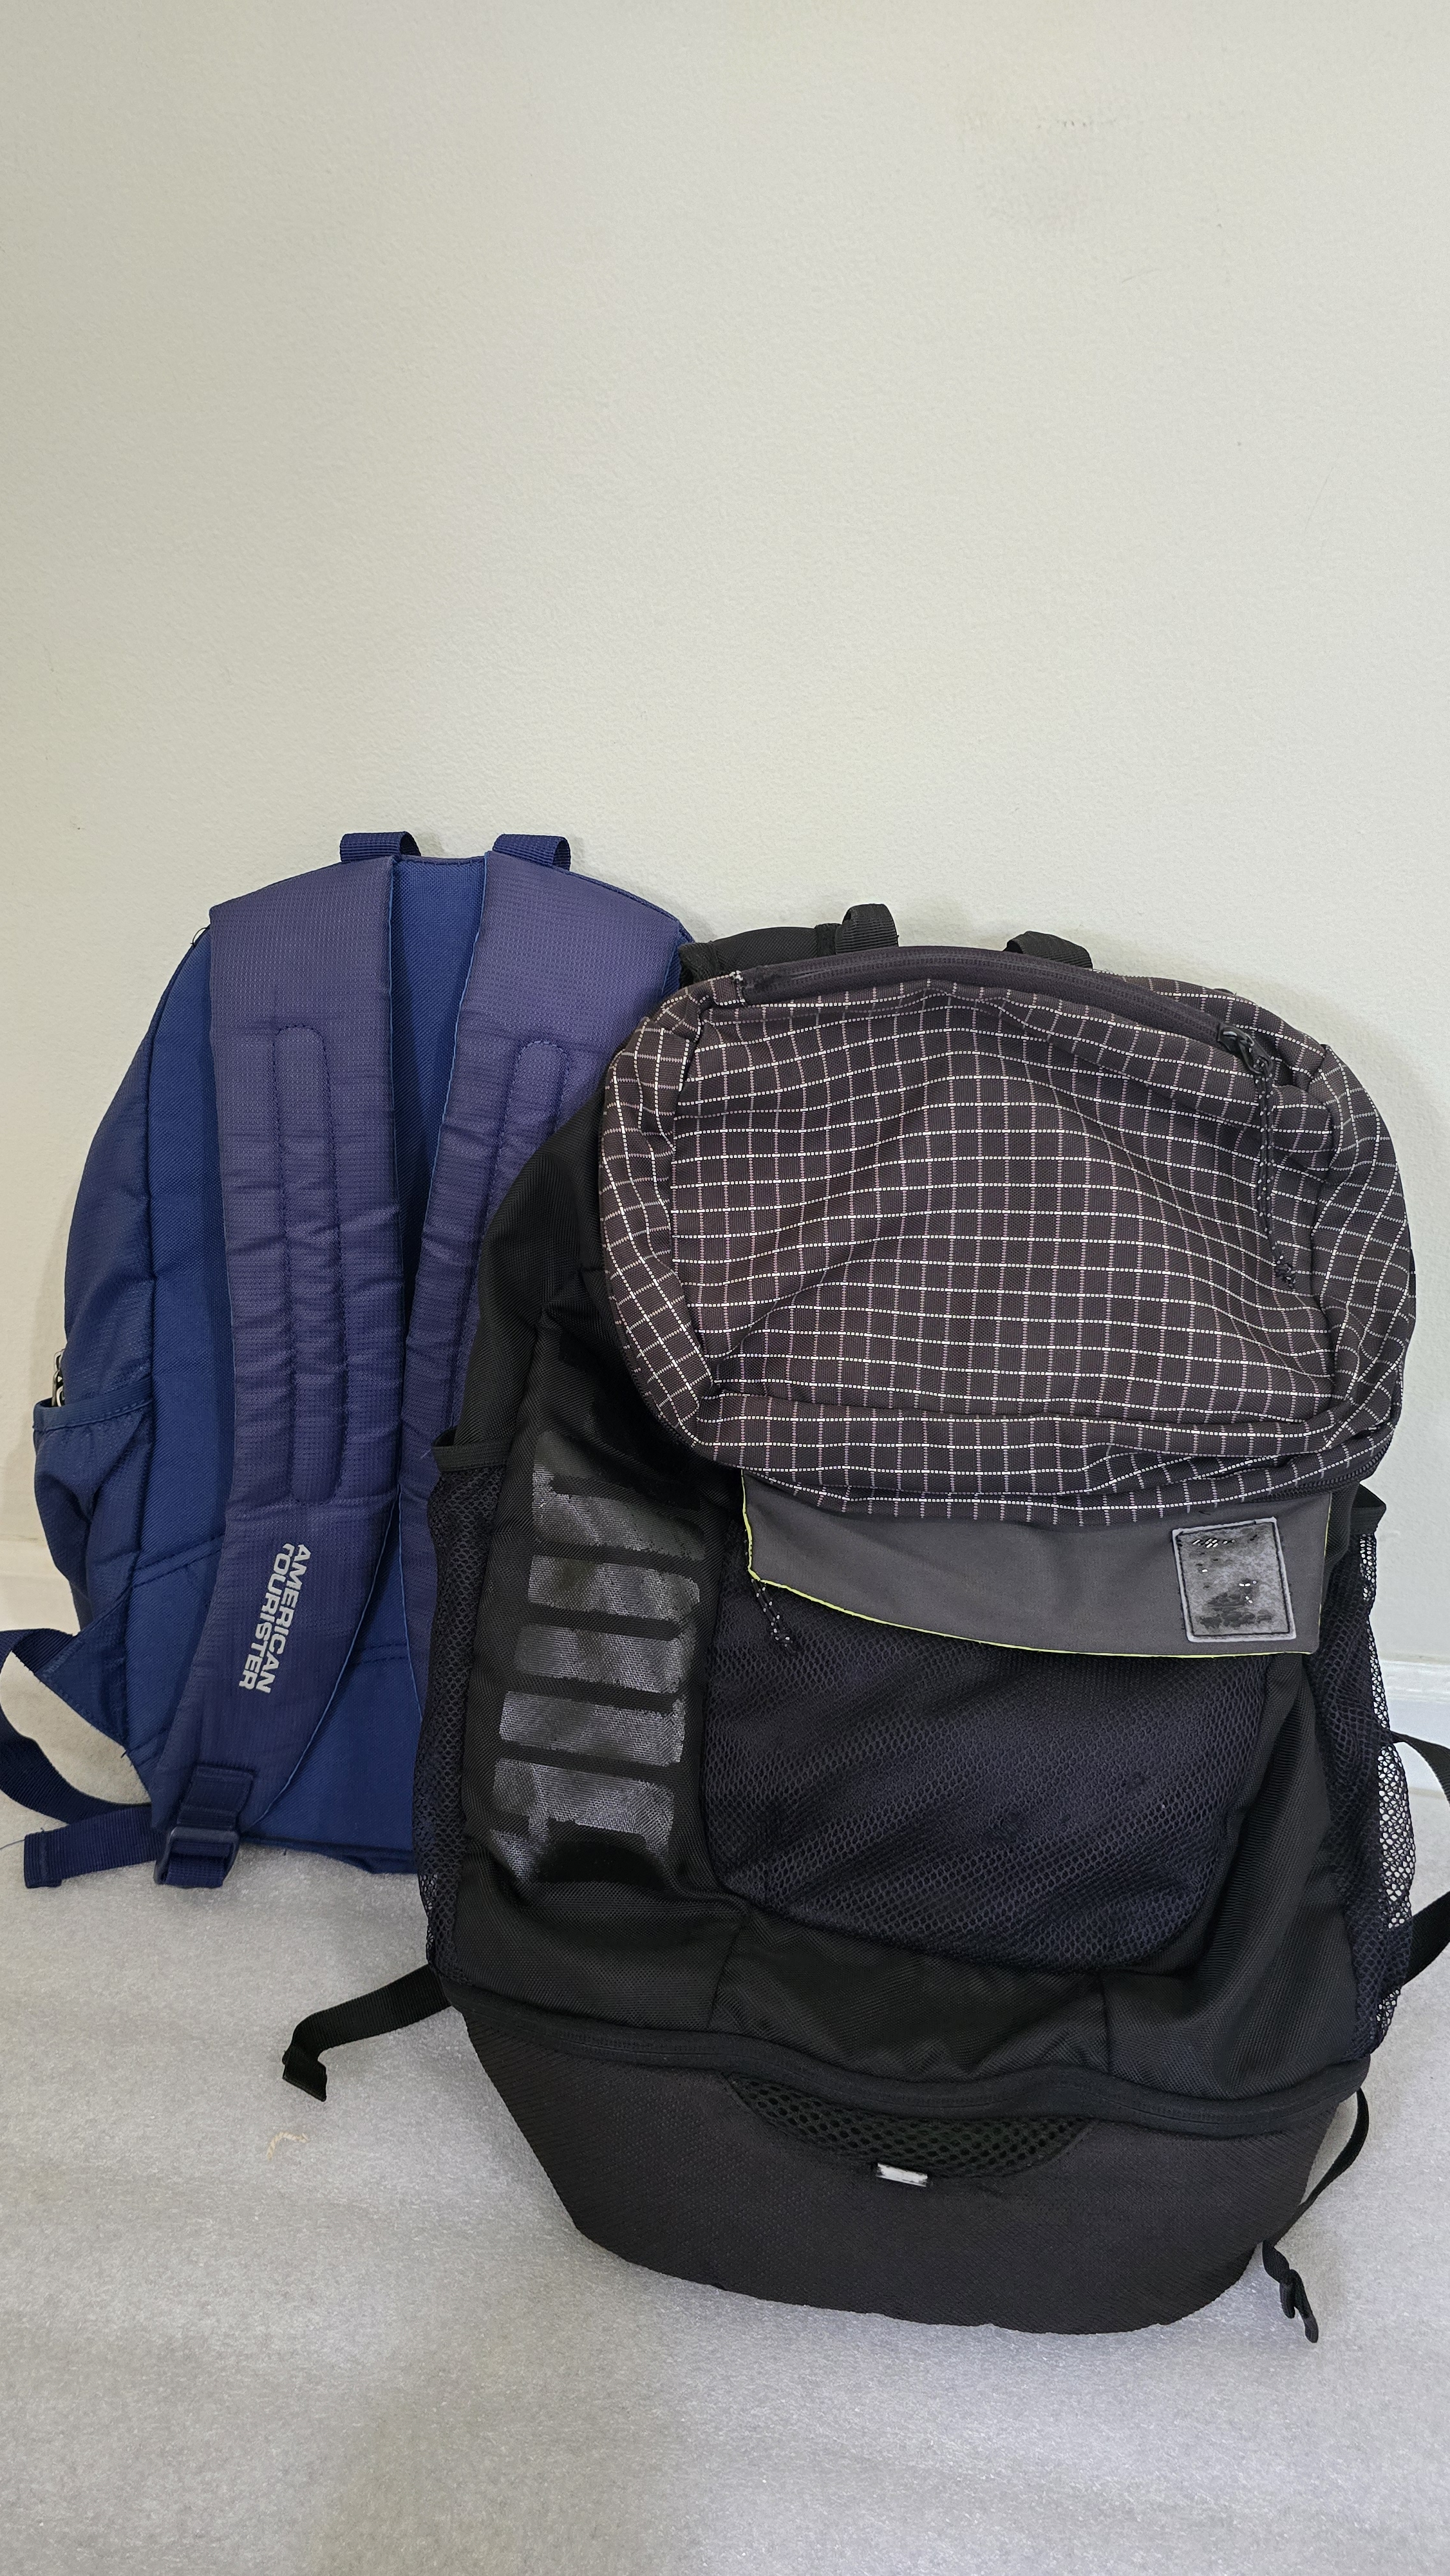bag: (493, 875, 1431, 2353), (88, 767, 455, 1900)
